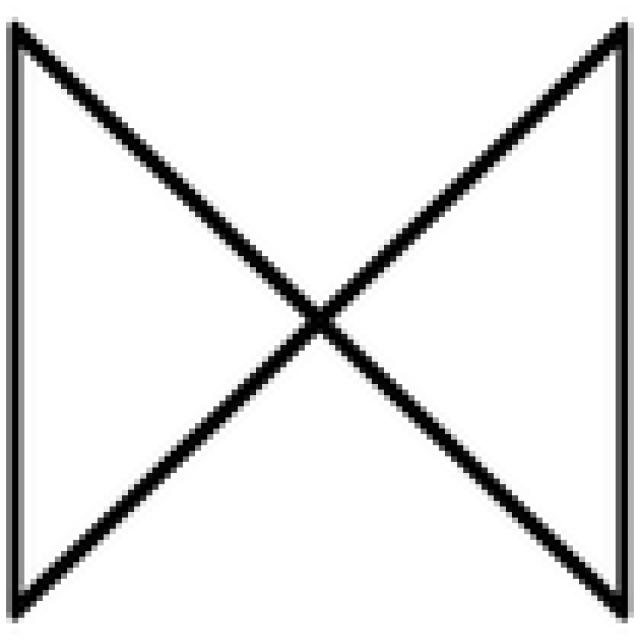Gate valve: (16, 27, 622, 613)
